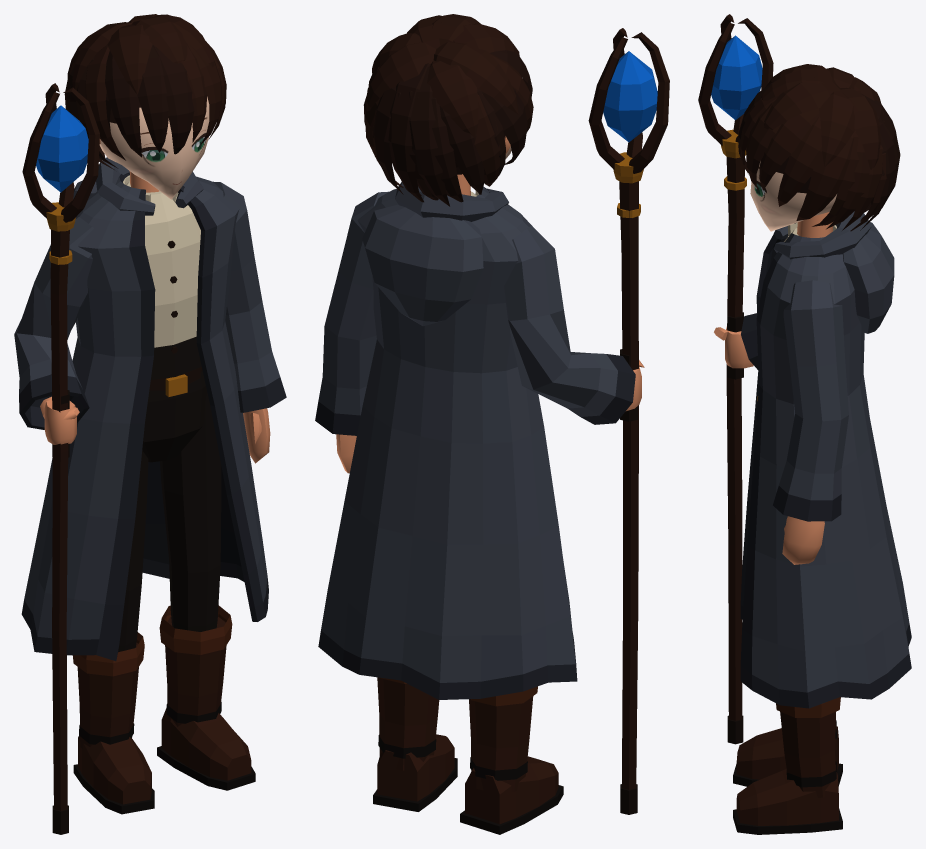
File: rudeus_lowpoly.obj
3 renders of one model, left to right at view 1: azimuth 30°, elevation 25°; view 2: azimuth 150°, elevation 25°; view 3: azimuth 270°, elevation 25°, orthographic. The views are drawn at different scales.
Parts seen in each view (by area): view 1: Rudeus_Clothes, Rudeus_Hair, Aqua_Heartia, Rudeus_Body; view 2: Rudeus_Clothes, Rudeus_Hair, Aqua_Heartia, Rudeus_Body; view 3: Rudeus_Clothes, Rudeus_Hair, Aqua_Heartia, Rudeus_Body.
Part boxes in pixels (<box>): Rudeus_Clothes: <box>14,157,286,814</box>; Rudeus_Hair: <box>64,14,226,169</box>; Aqua_Heartia: <box>22,83,99,834</box>; Rudeus_Body: <box>40,96,270,463</box>; Rudeus_Clothes: <box>315,182,635,834</box>; Rudeus_Hair: <box>363,14,533,206</box>; Aqua_Heartia: <box>588,28,669,814</box>; Rudeus_Body: <box>336,136,644,473</box>; Rudeus_Clothes: <box>733,211,911,834</box>; Rudeus_Hair: <box>738,64,900,231</box>; Aqua_Heartia: <box>698,14,773,744</box>; Rudeus_Body: <box>714,161,836,564</box>.
Bounding box in the file's own units: 0.6903 × 1.67 × 0.4441.
